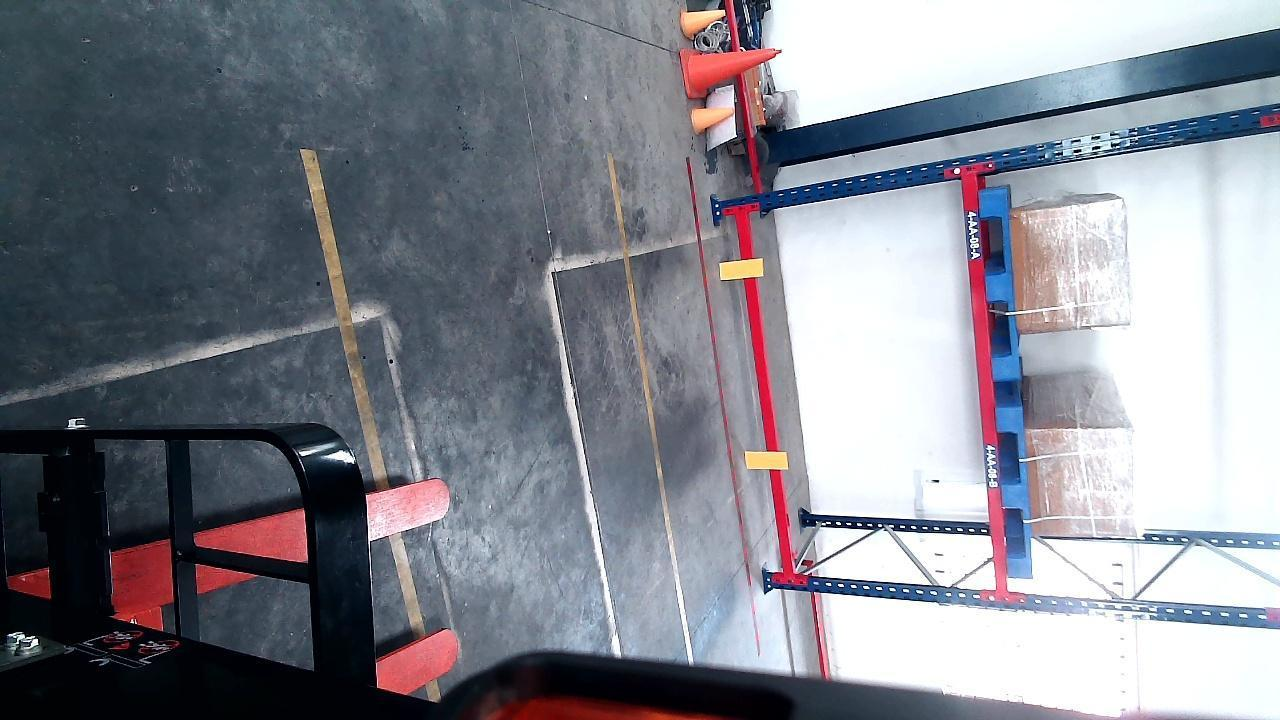h_rack: (732, 206, 799, 581), (964, 178, 1009, 592)
orange_strip: (743, 448, 787, 472), (720, 256, 762, 281)
small_pallet: (981, 182, 1016, 381), (998, 409, 1032, 576)
yellow_line: (299, 146, 445, 703), (602, 146, 700, 667)
